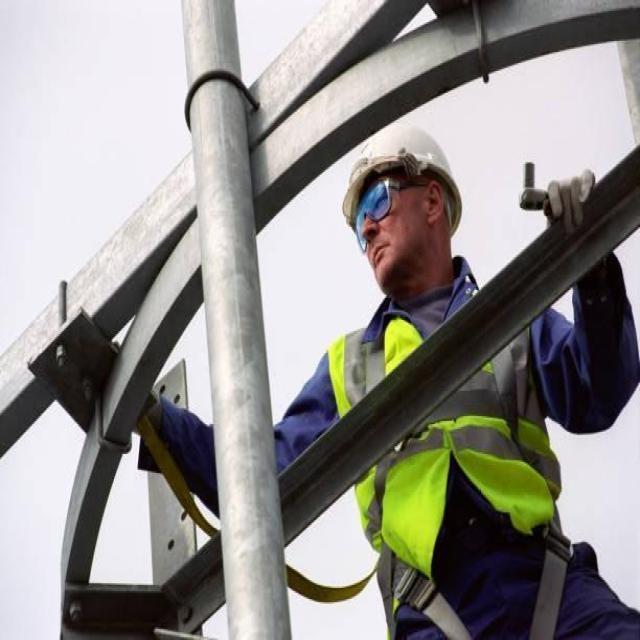Arnes_seguridad: (324, 285, 566, 640)
